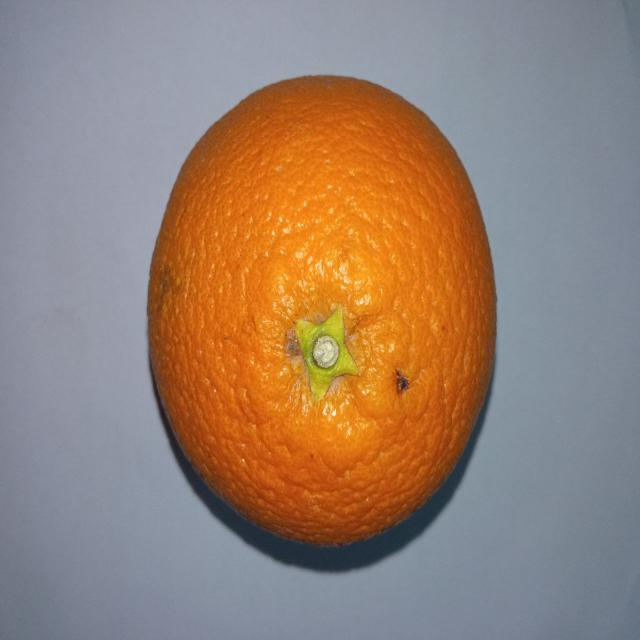fresh_orange: (147, 73, 495, 548)
